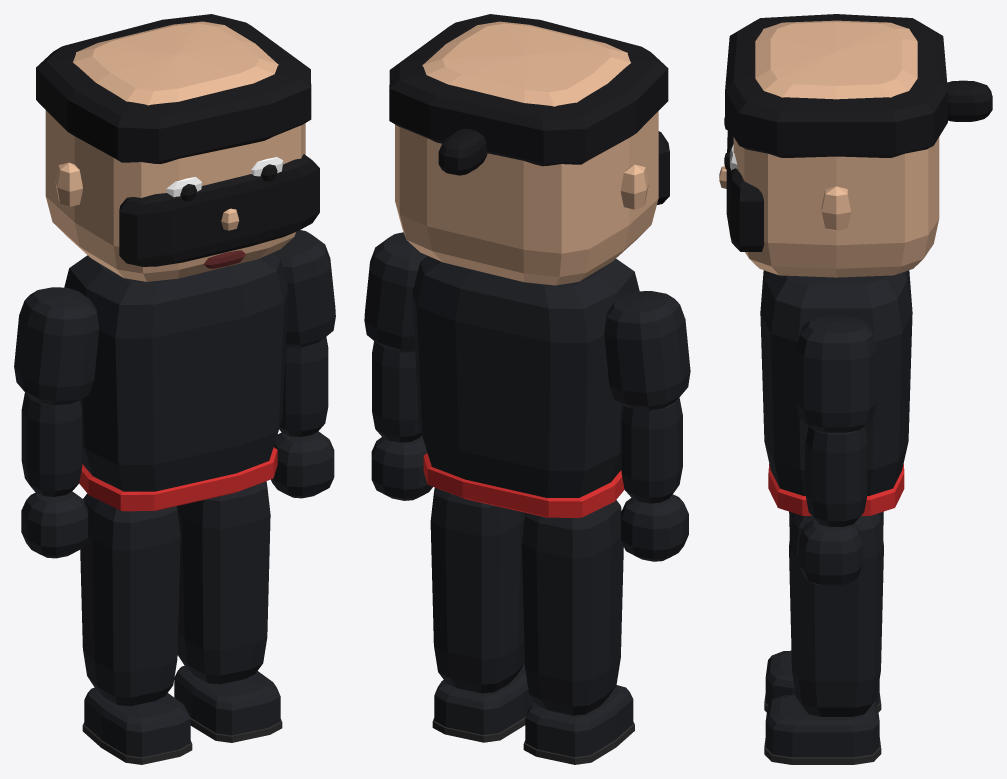
Rendered from hero-r.glb.
3 renders of one model, left to right at view 1: azimuth 30°, elevation 25°; view 2: azimuth 150°, elevation 25°; view 3: azimuth 270°, elevation 25°, orthographic.
Parts seen in each view (by area): view 1: head, torso, leg-right, leg-left, arm-right, arm-left; view 2: head, torso, leg-right, leg-left, arm-right, arm-left; view 3: head, torso, leg-left, arm-left, leg-right.
Part boxes in pixels (x1,y1,x2,y2): head: (36, 14, 319, 281); torso: (64, 253, 288, 511); leg-right: (80, 493, 192, 764); leg-left: (174, 481, 282, 742); arm-right: (14, 287, 99, 558); arm-left: (271, 230, 335, 498); head: (389, 14, 669, 285); torso: (412, 256, 639, 517); leg-right: (521, 500, 634, 764); leg-left: (430, 487, 534, 742); arm-right: (604, 291, 690, 561); arm-left: (364, 232, 432, 500); head: (719, 14, 992, 277); torso: (760, 270, 912, 515); leg-left: (764, 513, 883, 764); arm-left: (796, 316, 876, 586); leg-right: (764, 511, 883, 712).
Bounding box in the file's own units: 1.29 × 2.71 × 0.9929.
